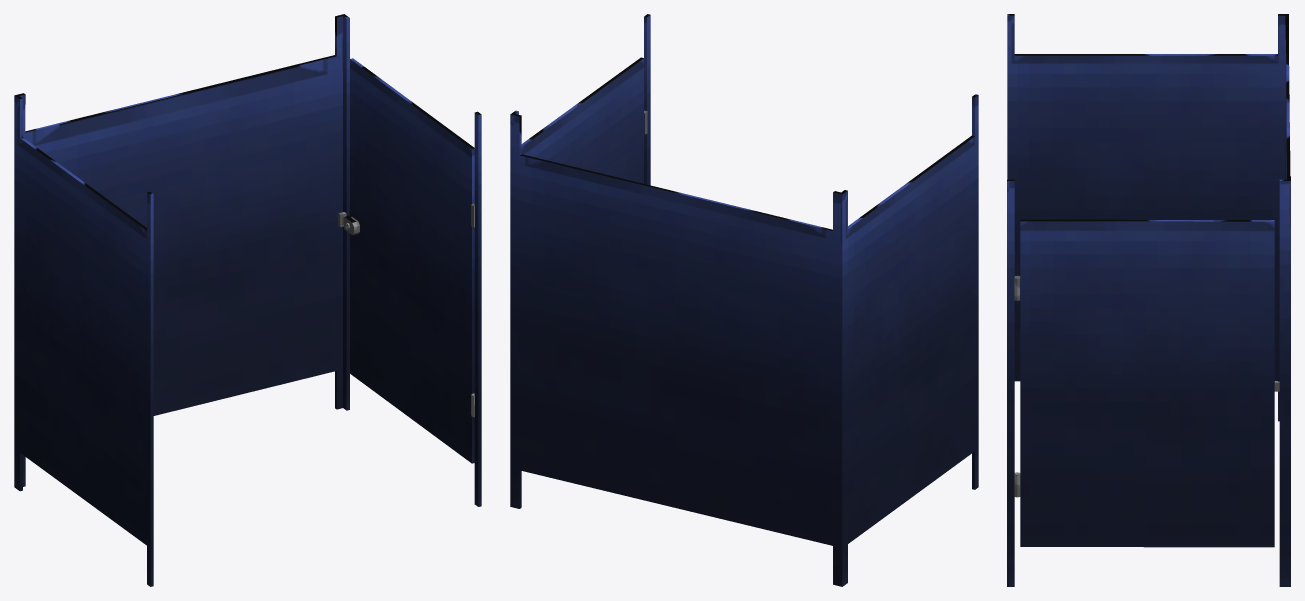
File: stall_closed_R.fbx
The picture shows the model from 3 angles, left to right: view 1: azimuth 30°, elevation 25°; view 2: azimuth 150°, elevation 25°; view 3: azimuth 270°, elevation 25°; orthographic projection. The views are drawn at different scales.
Visible parts, largest first — view 1: stall_closed_R; view 2: stall_closed_R; view 3: stall_closed_R.
Boxes of the visible parts, x1=… form: stall_closed_R: x1=14, y1=14, x2=481, y2=586; stall_closed_R: x1=510, y1=14, x2=978, y2=586; stall_closed_R: x1=1007, y1=14, x2=1290, y2=586.
Bounding box in the file's own units: 2.13 × 2.4 × 1.52.
1 material, 1 textured.
